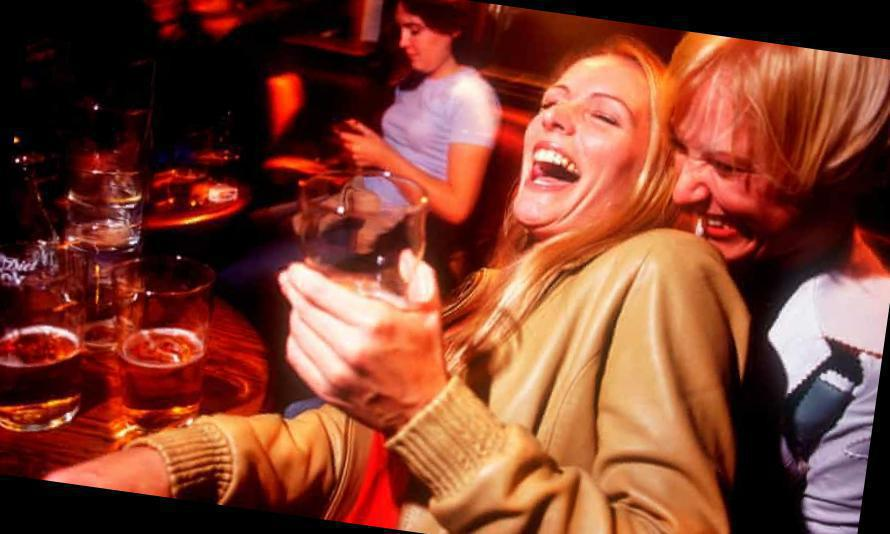Drunk: (520, 62, 642, 219), (676, 90, 774, 255)
